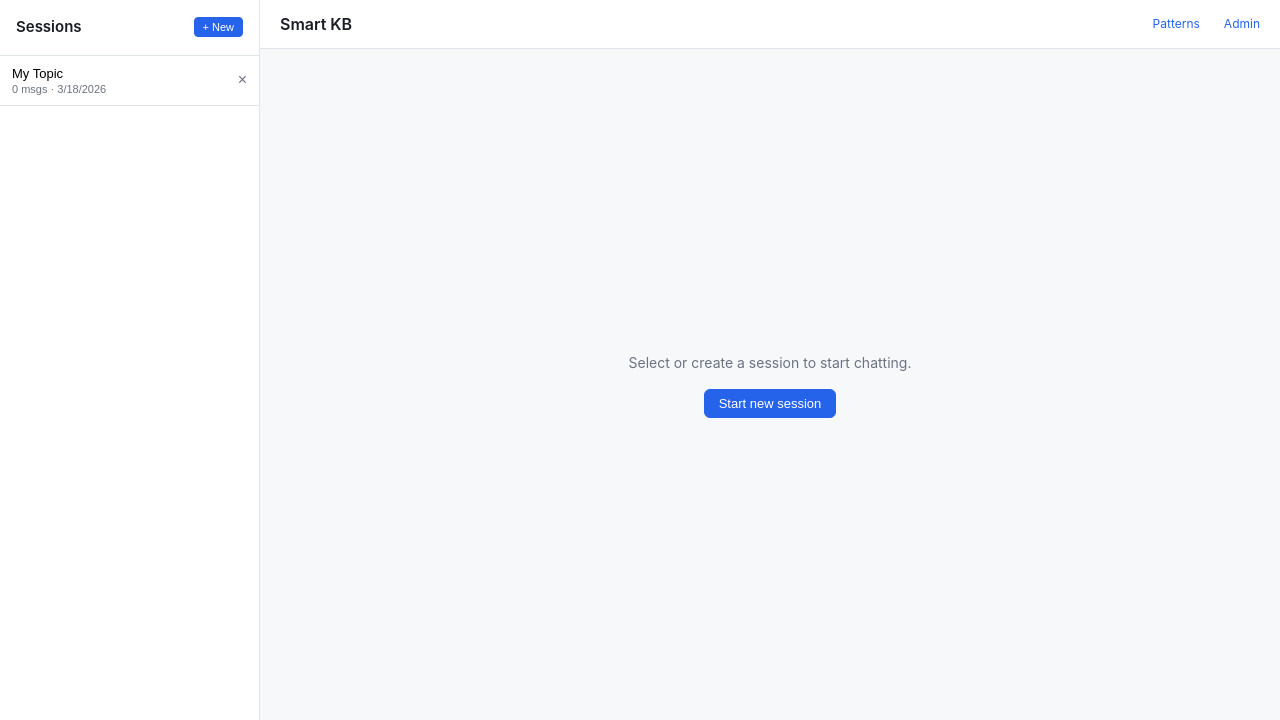
Test: ChatPage › shows session indicator when a session is selected
The image size is (1280, 720).
Click the text "My Topic": (38, 73) [12,66,63,80]
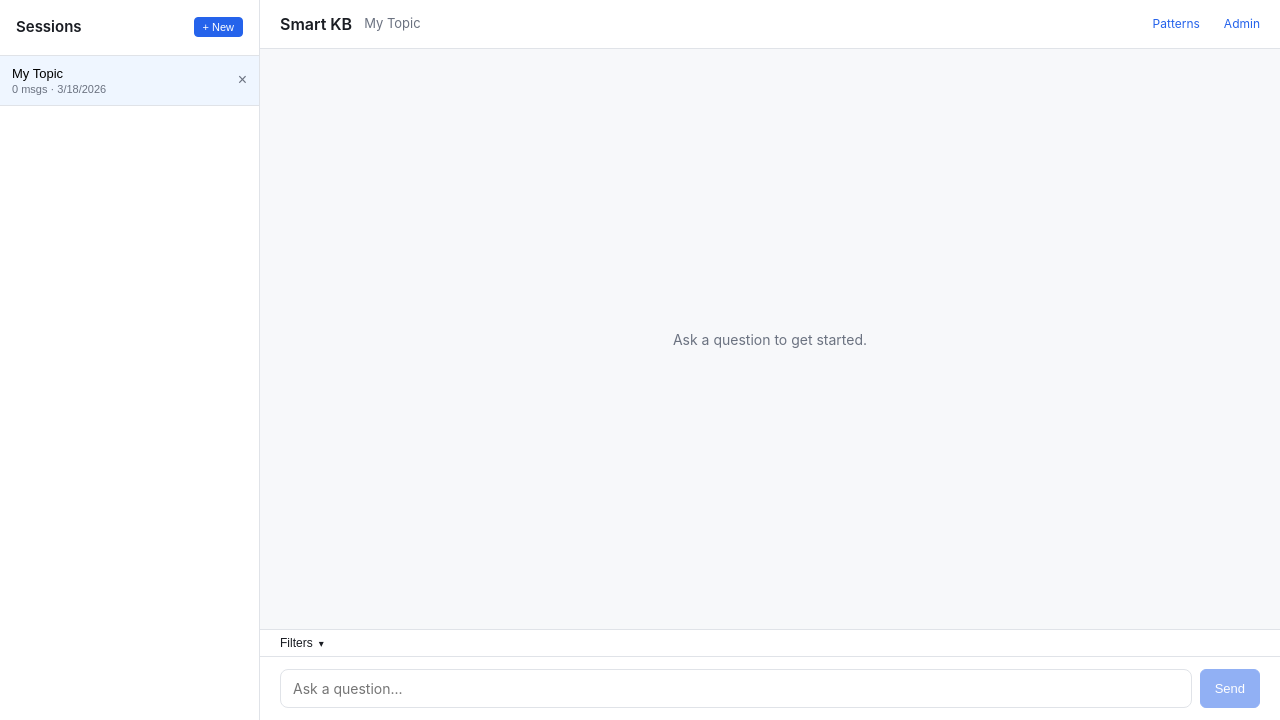
Result: the text "My Topic" next to "Smart KB" is shown at [364,15,421,31]
